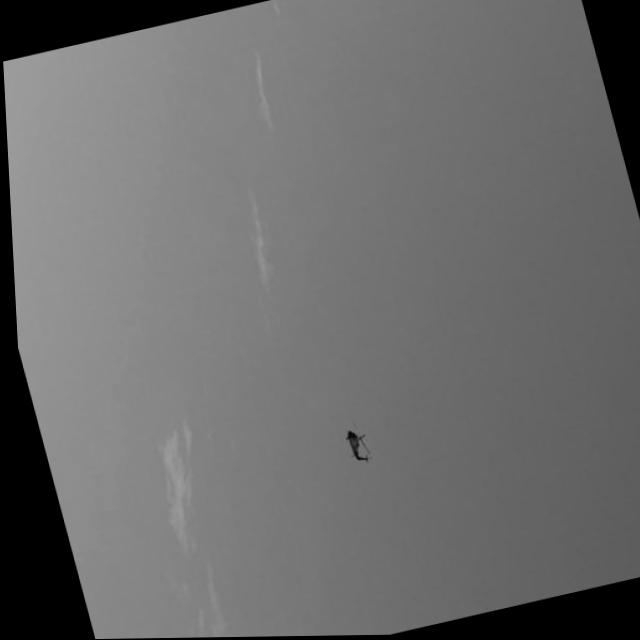helikopter: (307, 399, 406, 484)
